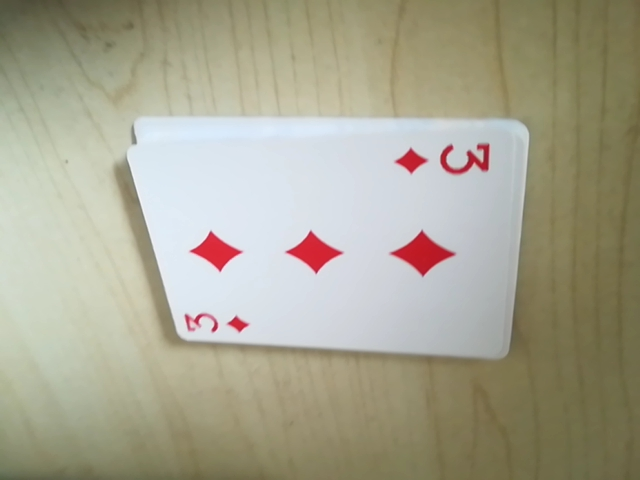fk 3: (393, 129, 499, 184), (176, 303, 253, 341)
